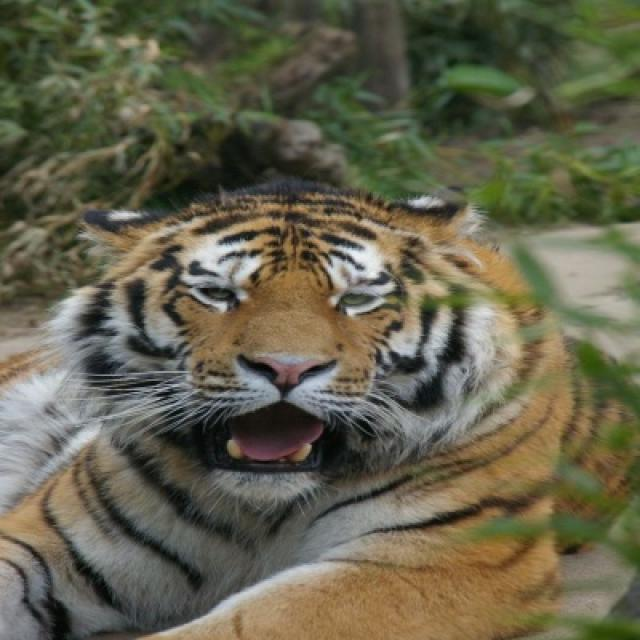Tiger: (8, 183, 638, 638)
